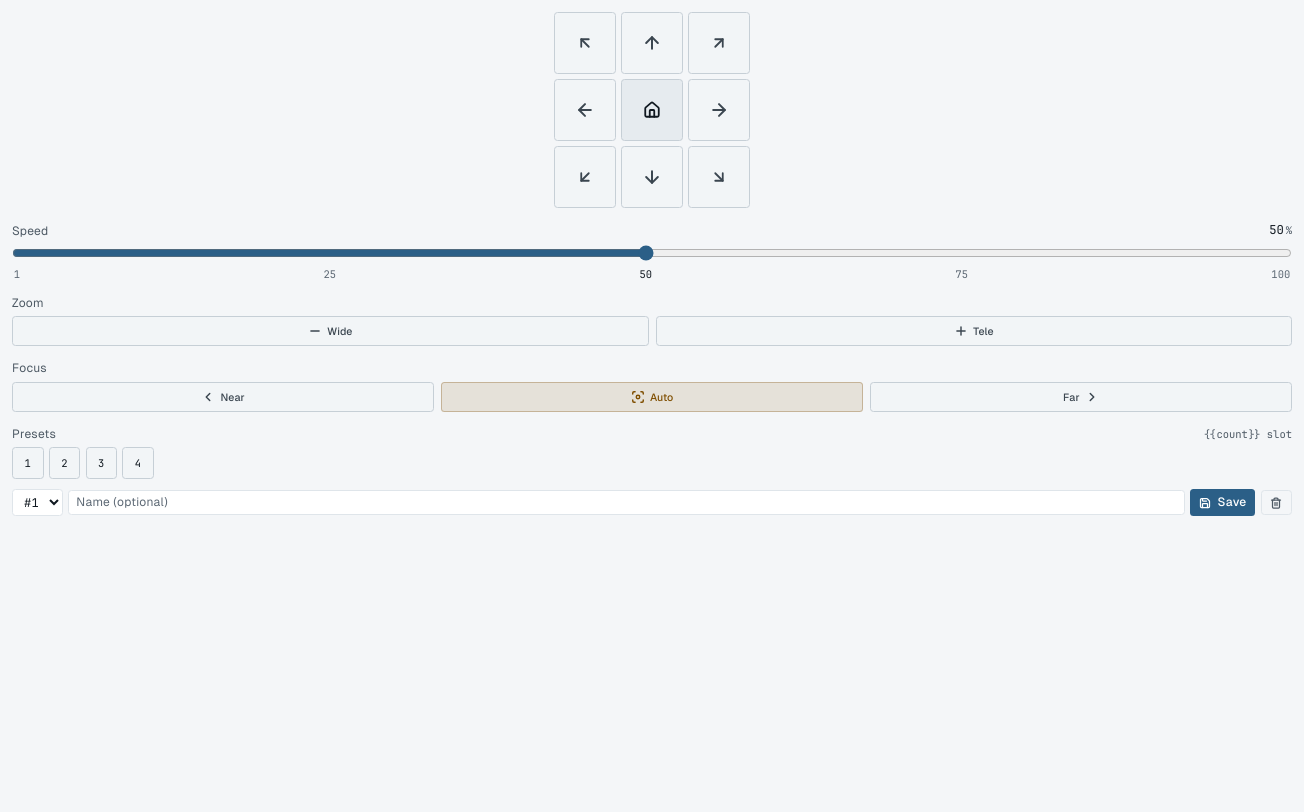
PtzControls — failure reporting › clears its pending timer on unmount
Click the button named "home" at (652, 110), box top-left (621, 79), bottom-right (683, 141)
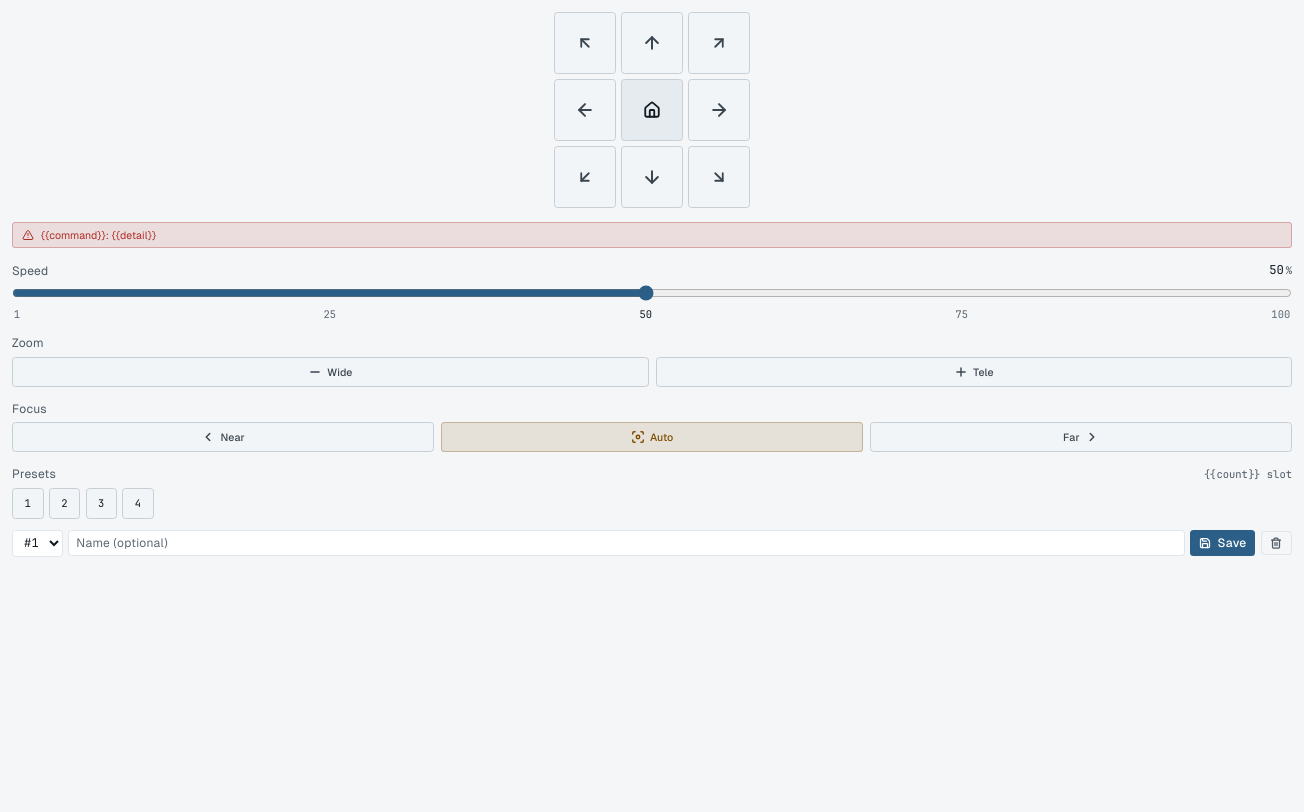
Expected: the message "{{command}}: {{detail}}" is shown, top-left (12, 222), bottom-right (1292, 248)
